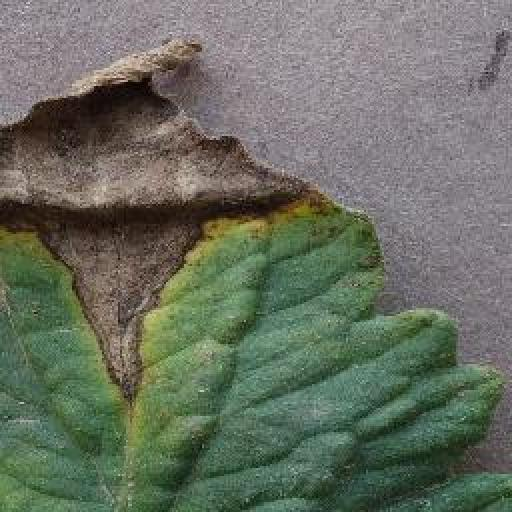Early Blight: (0, 33, 512, 512)
